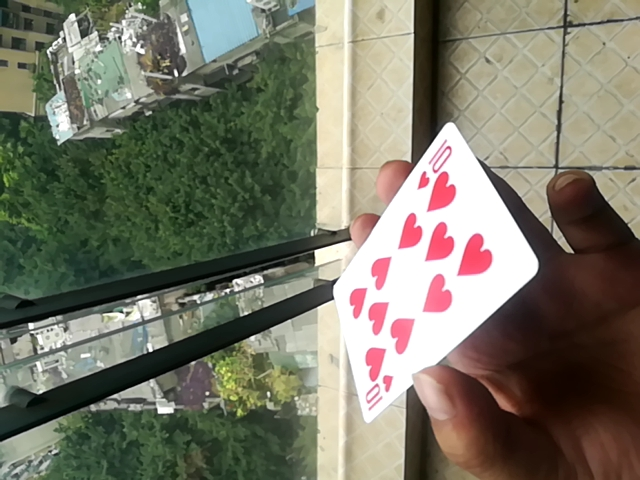hx 10: (323, 130, 537, 430)
